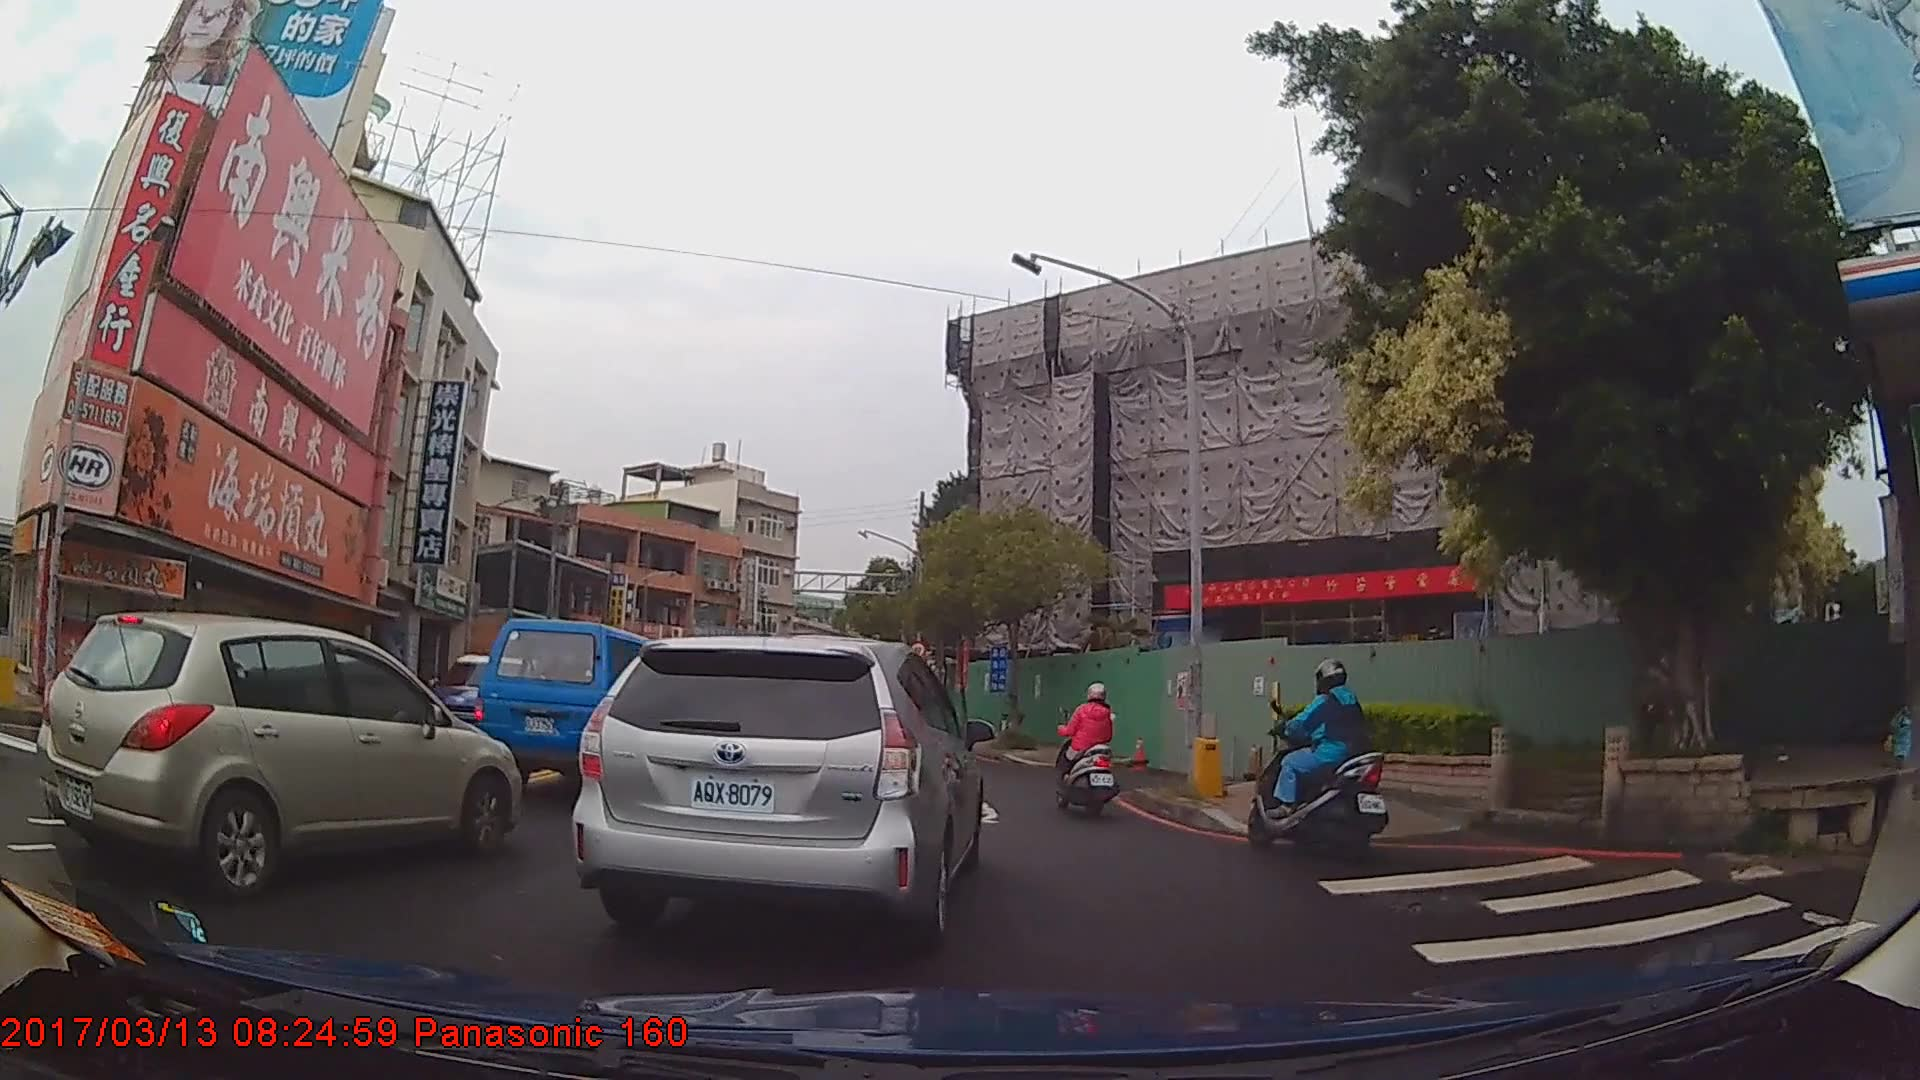rider: (1242, 665, 1385, 856), (1051, 680, 1120, 813)
vehicle: (29, 607, 519, 899), (565, 628, 984, 944), (472, 615, 673, 797), (414, 647, 547, 762)
